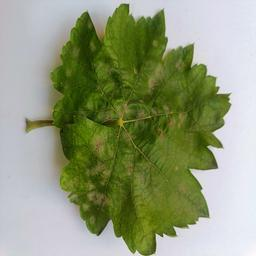Powdery-Mildew: (123, 149, 155, 180), (86, 125, 114, 160), (159, 105, 191, 135), (112, 98, 148, 121), (79, 164, 111, 188), (81, 190, 111, 208), (146, 67, 168, 91), (174, 56, 190, 72)
